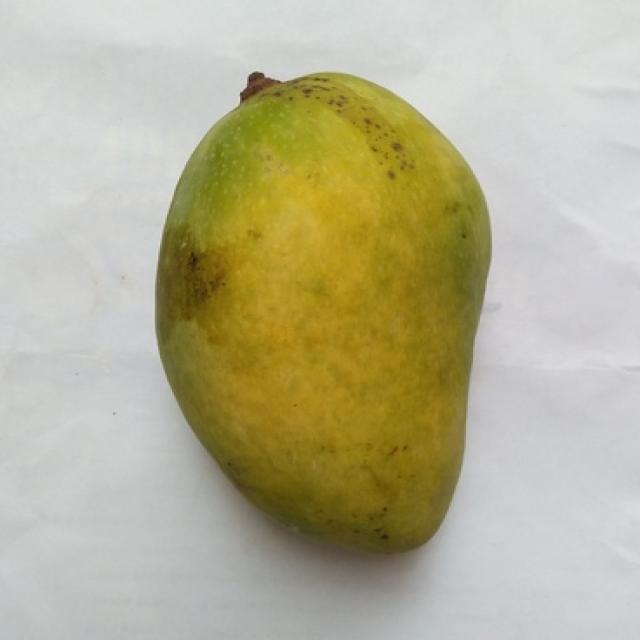Mango: (157, 73, 489, 550)
